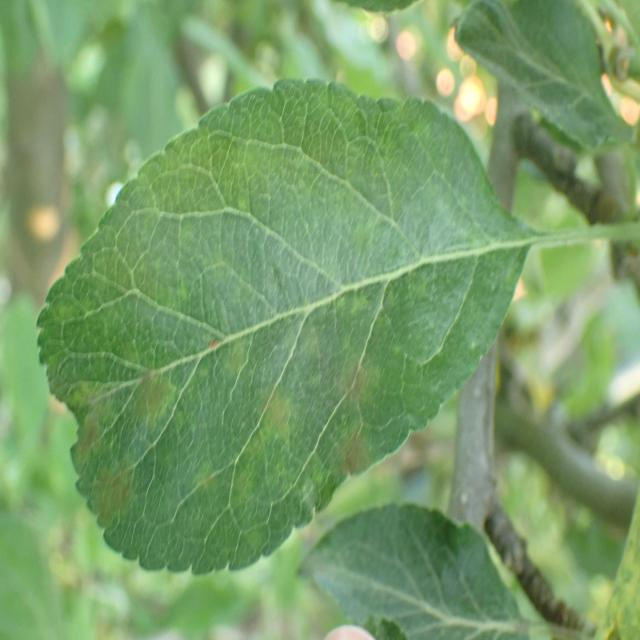scab: (50, 132, 517, 505)
